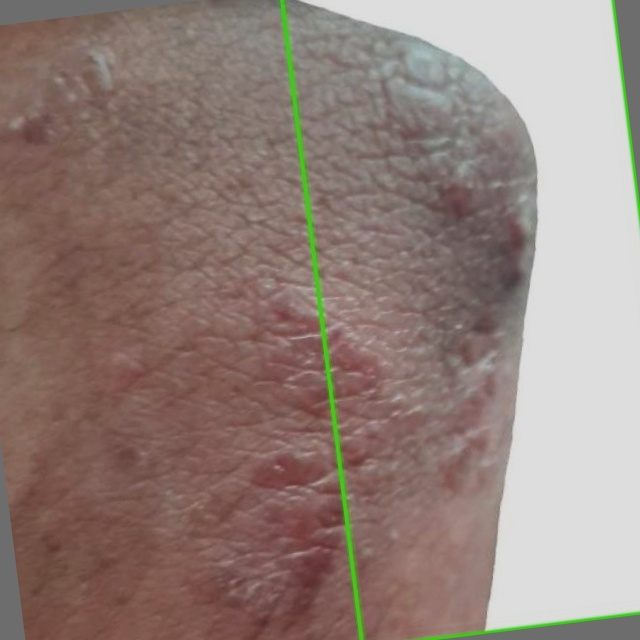Tinea Corporis: (281, 0, 639, 639)
